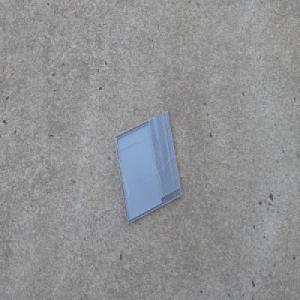PlasticPart: (113, 109, 182, 225)
